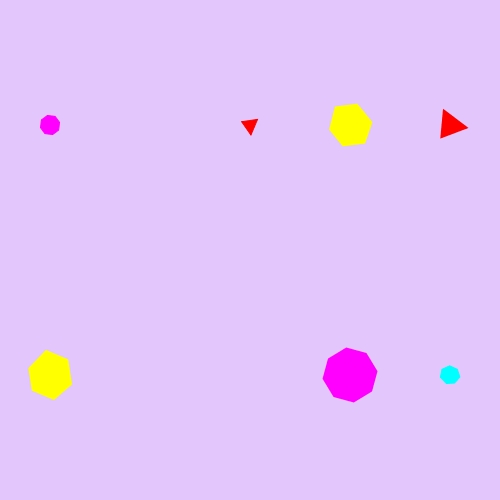heptagon: (436, 361, 465, 389)
hexagon: (22, 351, 79, 399), (323, 102, 378, 148)
octagon: (319, 344, 381, 406), (35, 110, 65, 140)
triangle: (433, 107, 468, 144), (238, 112, 263, 138)
